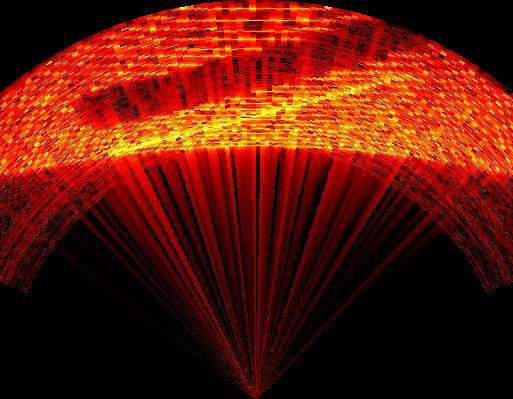pipe: (72, 20, 426, 132)
